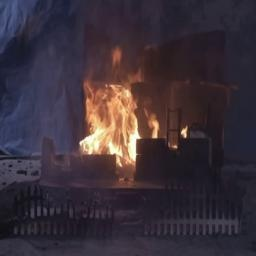fire: (72, 46, 159, 166)
